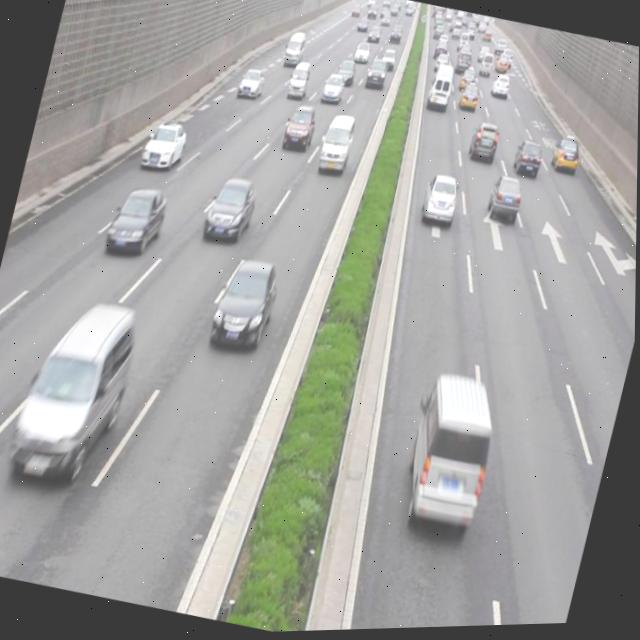car: (7, 292, 142, 490), (209, 257, 280, 351), (104, 183, 170, 260), (200, 171, 260, 247), (137, 118, 190, 175), (418, 173, 461, 229), (483, 174, 524, 226), (280, 102, 319, 156), (465, 122, 501, 170), (511, 140, 544, 181), (548, 138, 581, 179), (236, 67, 266, 102)
truck: (392, 370, 505, 543), (314, 112, 357, 176)
